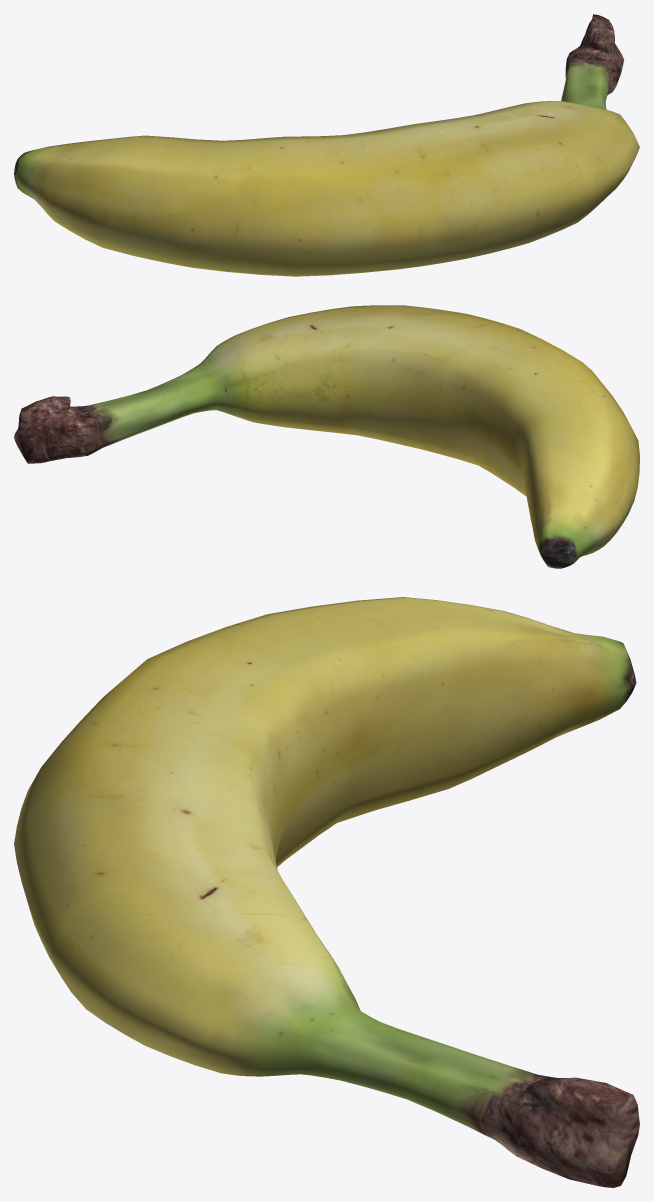
File: banana_div2.glb
The picture shows the model from 3 angles, top to bottom: view 1: azimuth 30°, elevation 25°; view 2: azimuth 150°, elevation 25°; view 3: azimuth 270°, elevation 25°; orthographic projection. The views are drawn at different scales.
Size of the model in its own units: 5.98 by 1.11 by 3.31.
Materials: 1 (1 with a texture image).
